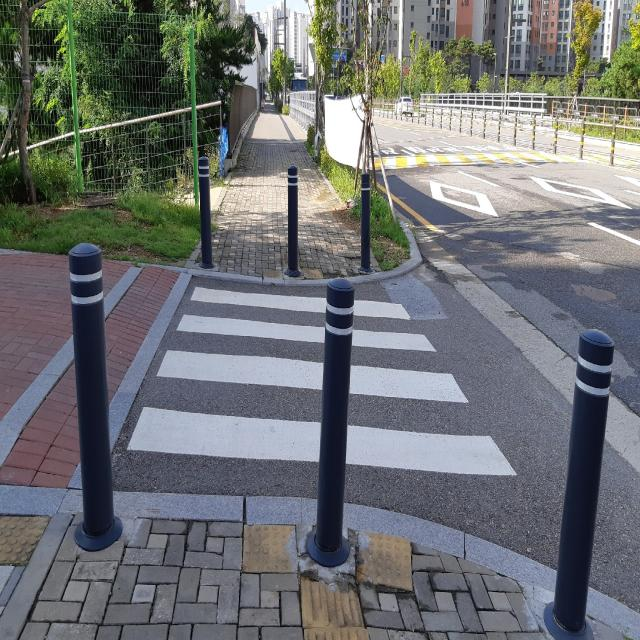횡단보도: (127, 287, 518, 476)
